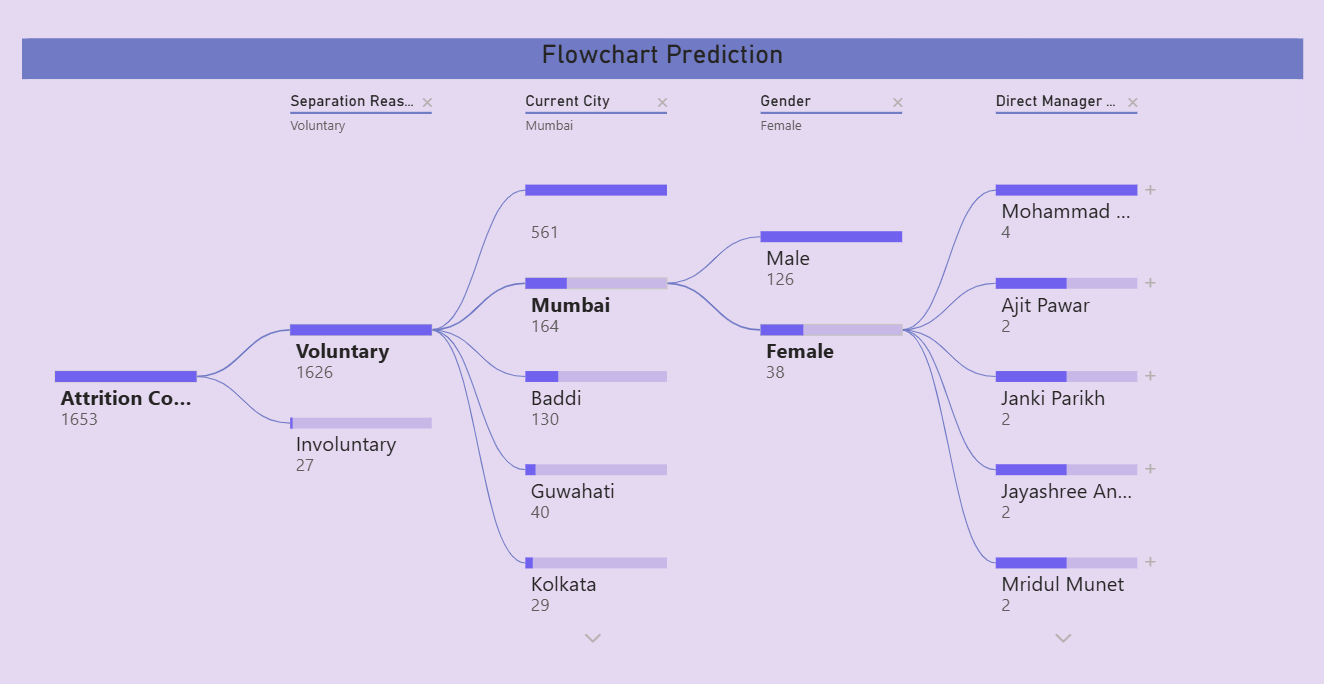

The dashboard page shown, as its layout file describes it:
{"tool":"powerbi","page":{"name":"Page 2","canvas":[1280,720],"ordinal":1},"visuals":[{"type":"decompositionTreeVisual","title":"Flowchart Prediction","fields":{"Analyze":["Table.Attrition Count"],"ExplainBy":["AttritionDashboard.Separation Reason Category - Employee","AttritionDashboard.Business Unit","AttritionDashboard.Current Department","AttritionDashboard.AttritionRange","AttritionDashboard.Separation Reason - Employee","AttritionDashboard.Direct Manager Name","AttritionDashboard.Gender","AttritionDashboard.Current City","AttritionDashboard.Current Designation"]},"box":[52.3,70.8,1176.6,578.2],"z":0}]}

Visuals, with their boxes on the page's 1280x720 design canvas (x1, y1, x2, y2). These are canvas units, not pixel positions in the 1324x684 screenshot, which may show the page scaled, cropped or inside an application window:
"Flowchart Prediction" decompositionTreeVisual: bbox(52, 71, 1229, 649)
